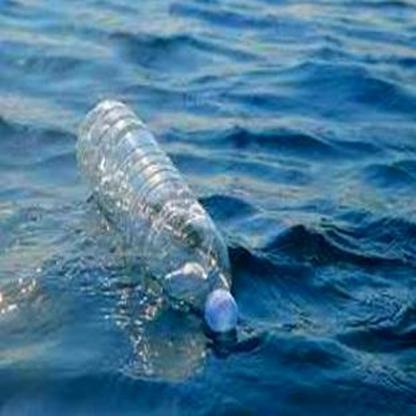plastic bottle: (74, 97, 239, 332)
